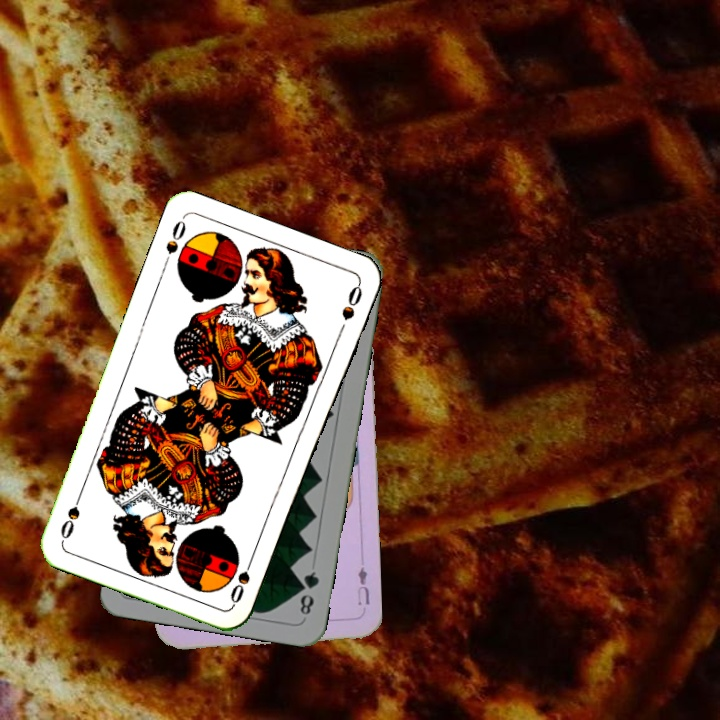EU: (353, 562, 372, 608)
G8: (296, 567, 322, 618)
SO: (226, 550, 257, 607), (159, 214, 189, 271)
